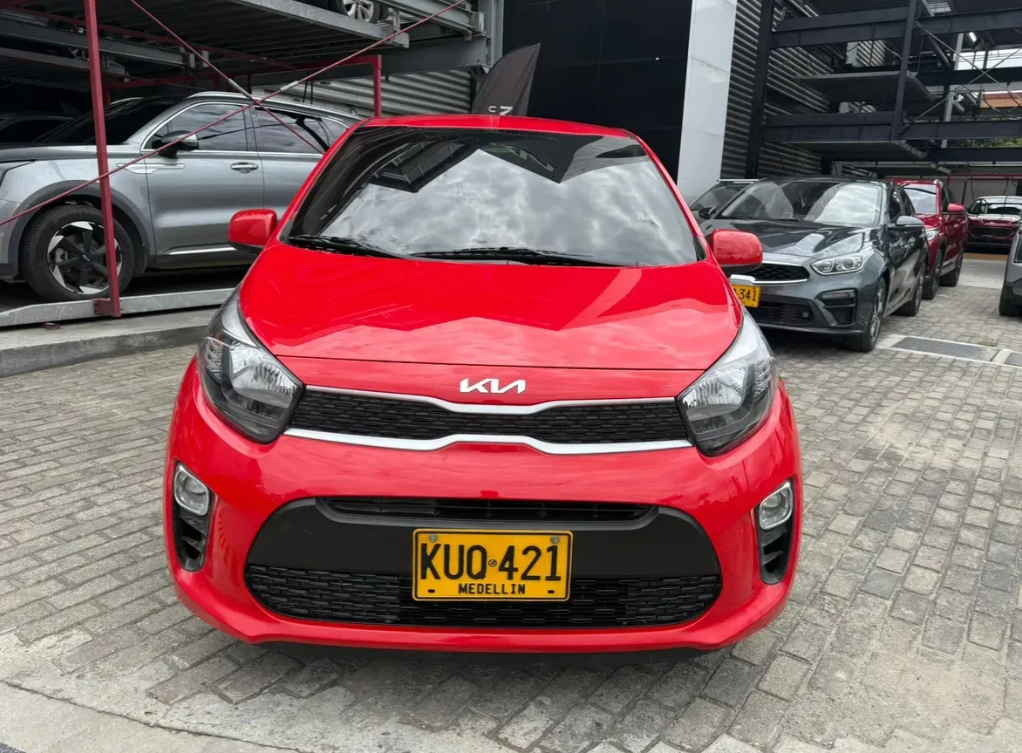placa: (413, 531, 569, 602)
